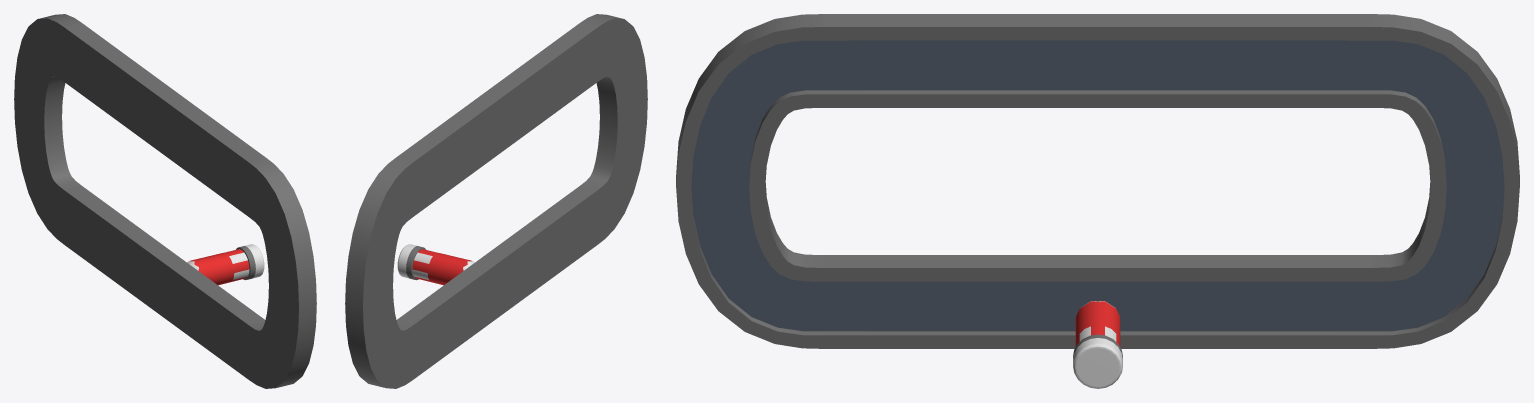
The picture shows the model from 3 angles, left to right: view 1: azimuth 30°, elevation 25°; view 2: azimuth 150°, elevation 25°; view 3: azimuth 270°, elevation 25°; orthographic projection. The views are drawn at different scales.
Parts seen in each view (by area): view 1: pCube42, pCylinder9; view 2: pCube42, pCylinder9; view 3: pCube42, pCylinder9.
Boxes of the visible parts, <box> form: pCube42: <box>14,14,316,388</box>; pCylinder9: <box>187,244,264,285</box>; pCube42: <box>345,14,647,388</box>; pCylinder9: <box>397,244,474,285</box>; pCube42: <box>676,14,1519,348</box>; pCylinder9: <box>1073,301,1122,388</box>.
Bounding box in the file's own units: 4.28 × 8.85 × 21.01.
